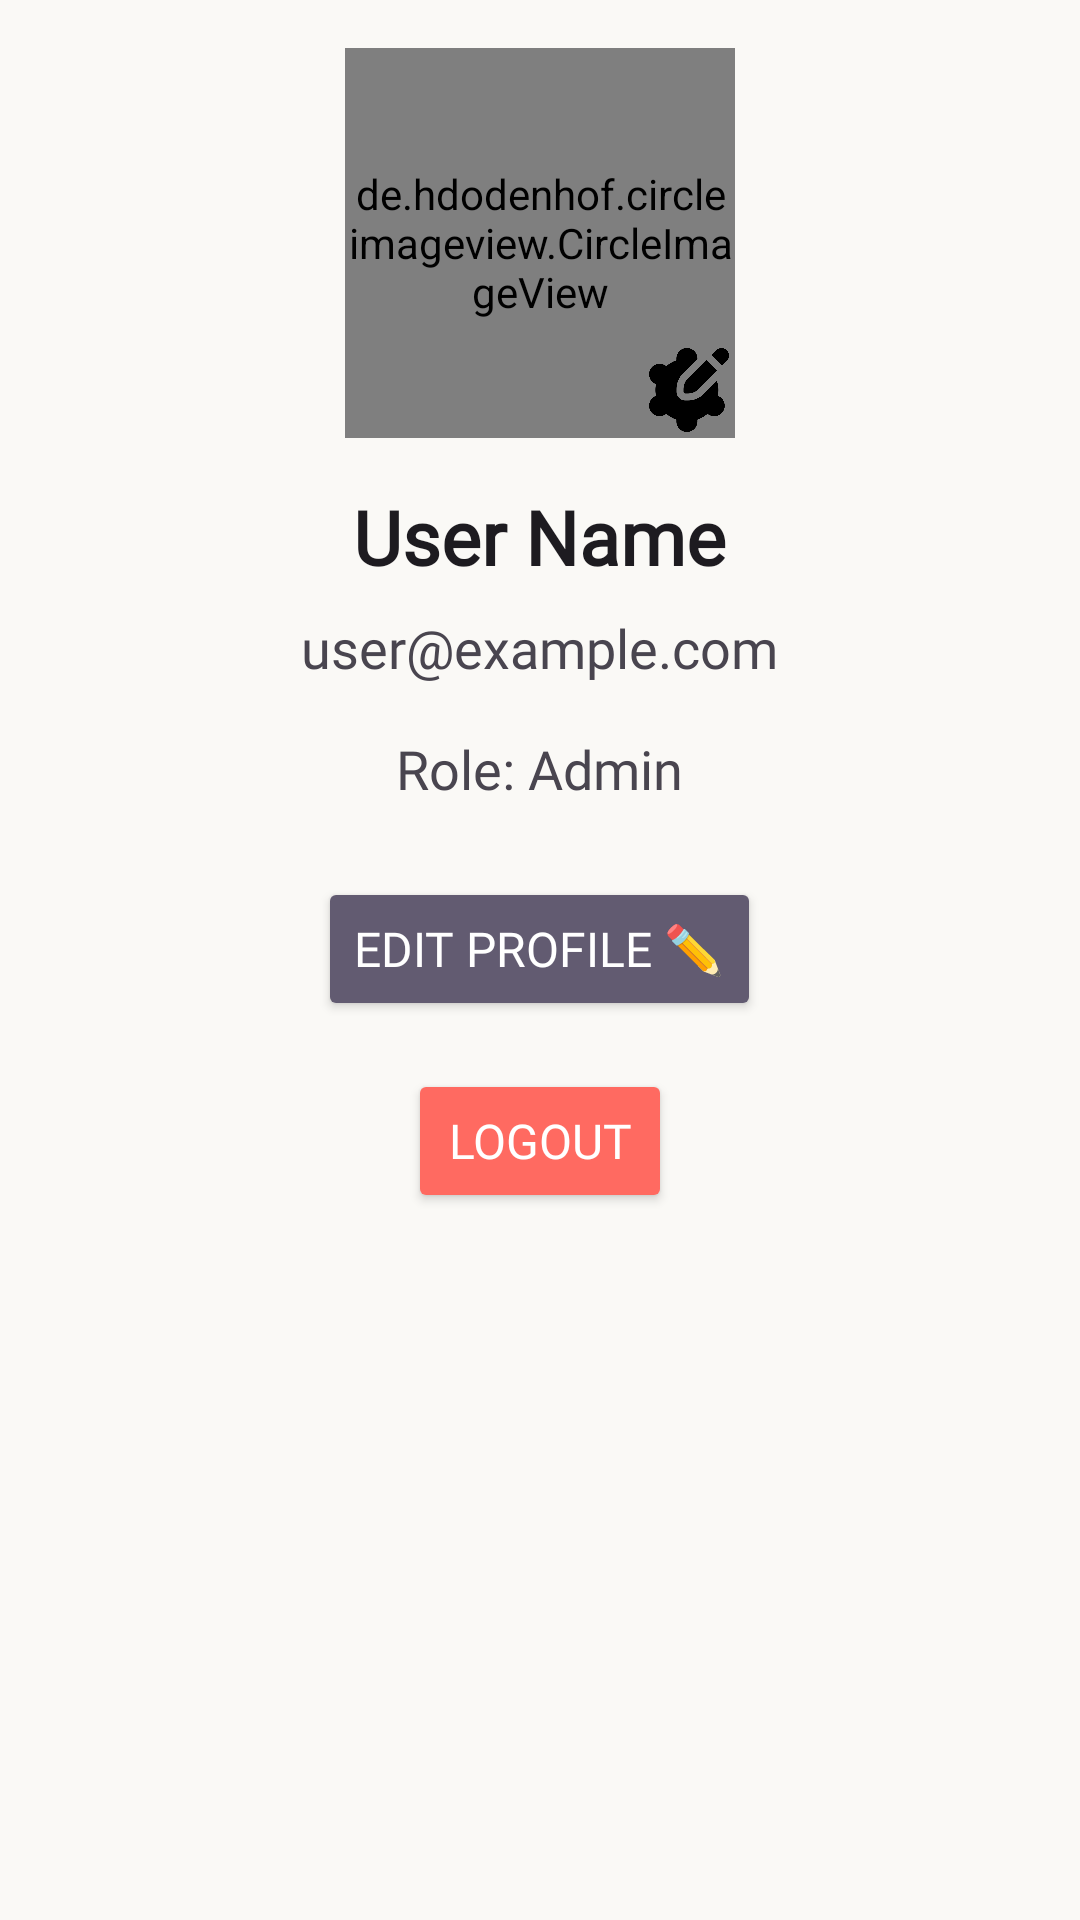

Named icons in this screenshot (1080x1920) and their centers, (x,y):
Edit Profile Picture: (689,390)
